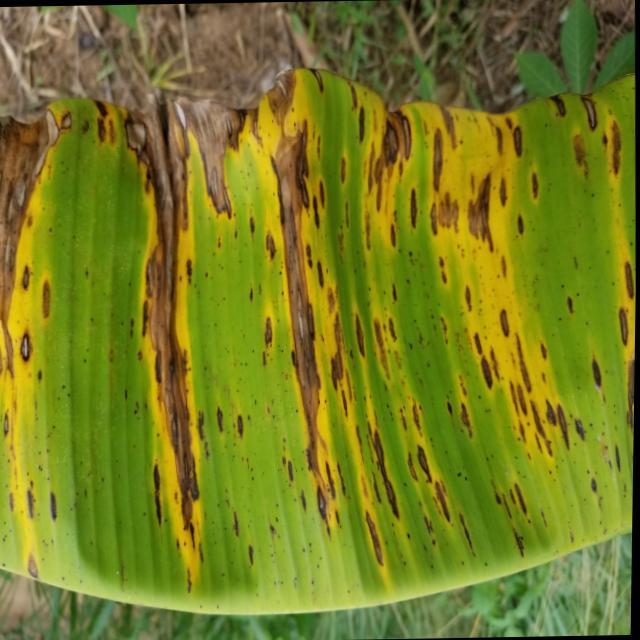Early_rust: (0, 23, 640, 602)
